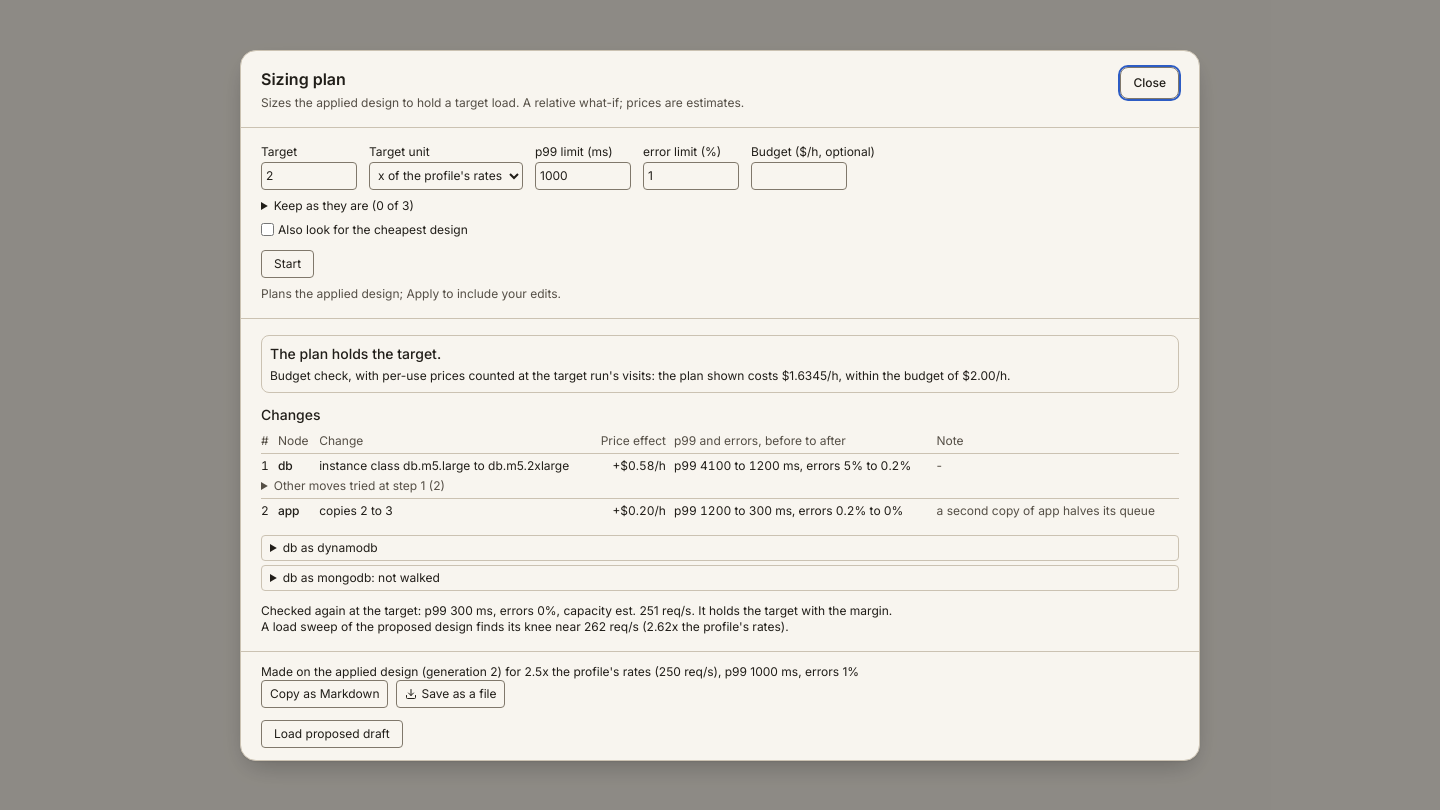
Scenario: Cancel leaves the draft alone and focus on Load
Click the button "Load proposed draft": coordinates (332, 734) x1=261 y1=720 x2=403 y2=748
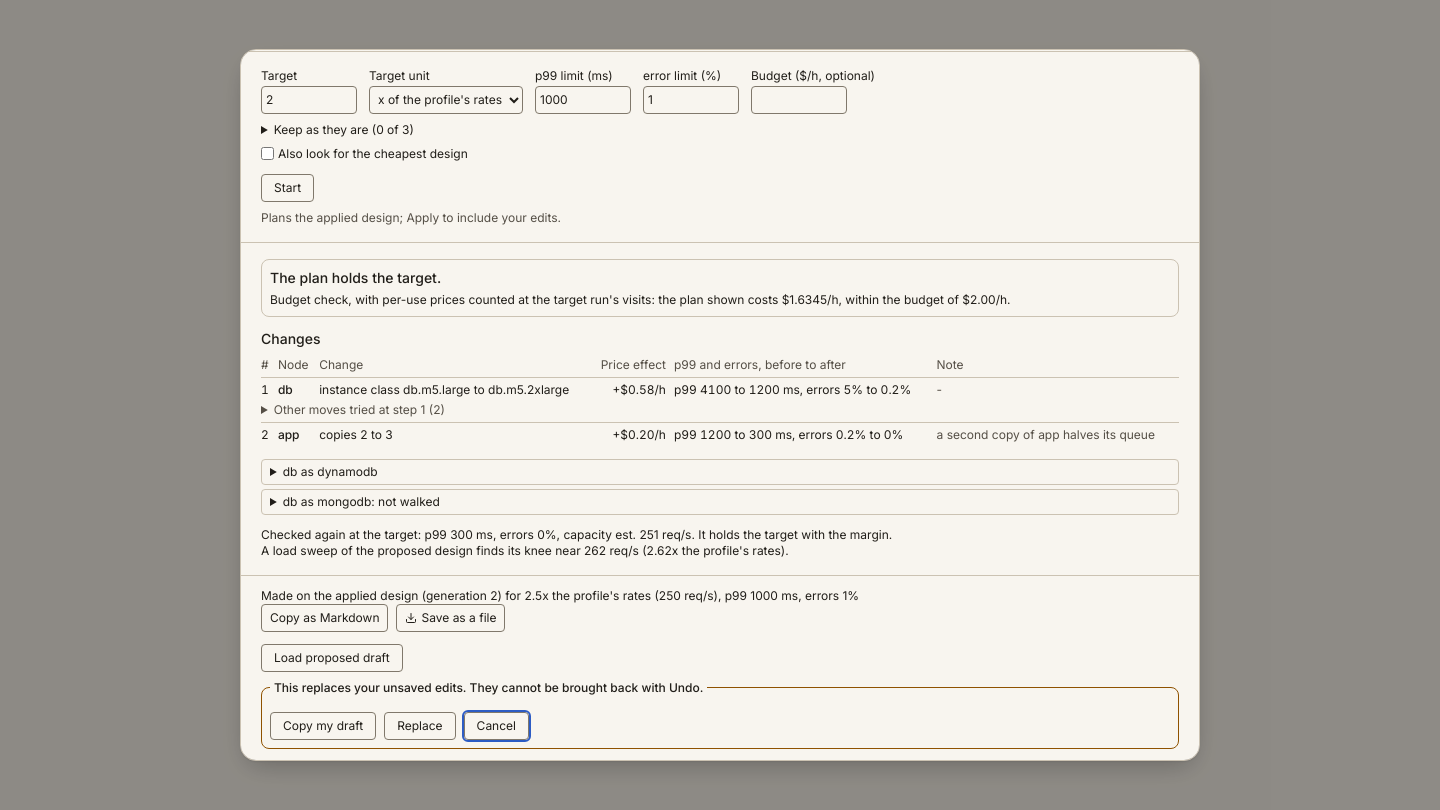
Click the button "Cancel": coordinates (496, 726) x1=464 y1=712 x2=529 y2=740
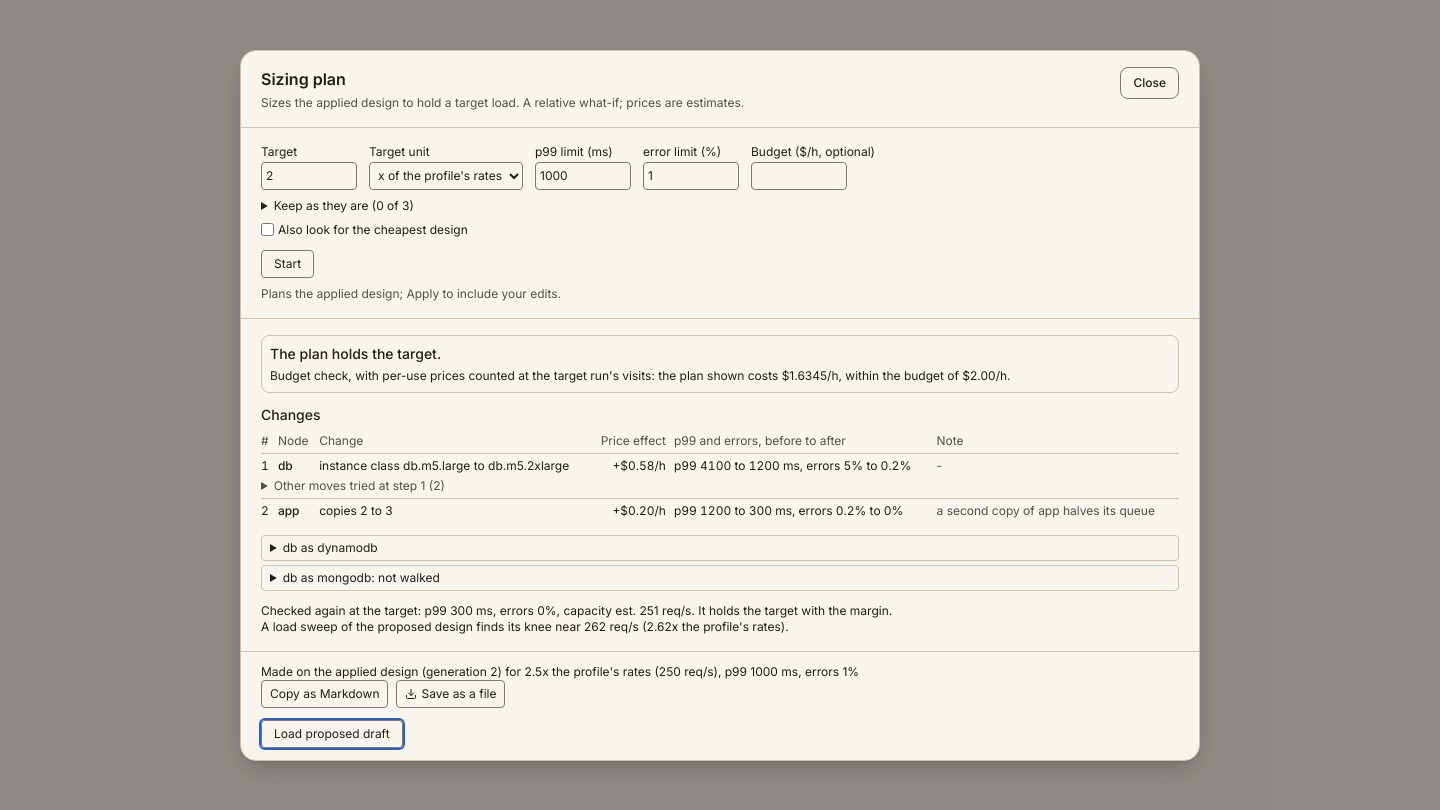
Result: the text "This replaces your unsaved edits" is gone
